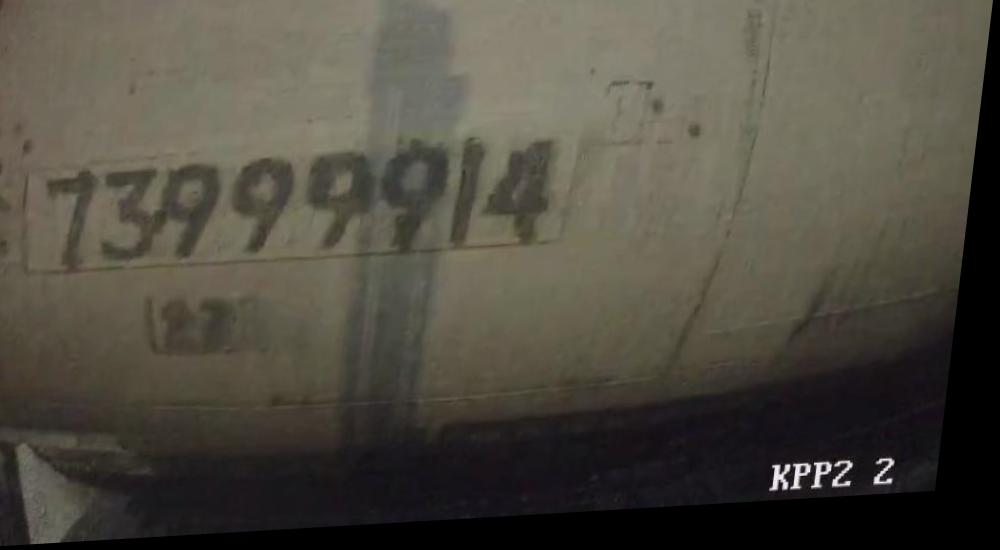Wagon-number: (37, 141, 579, 277)
